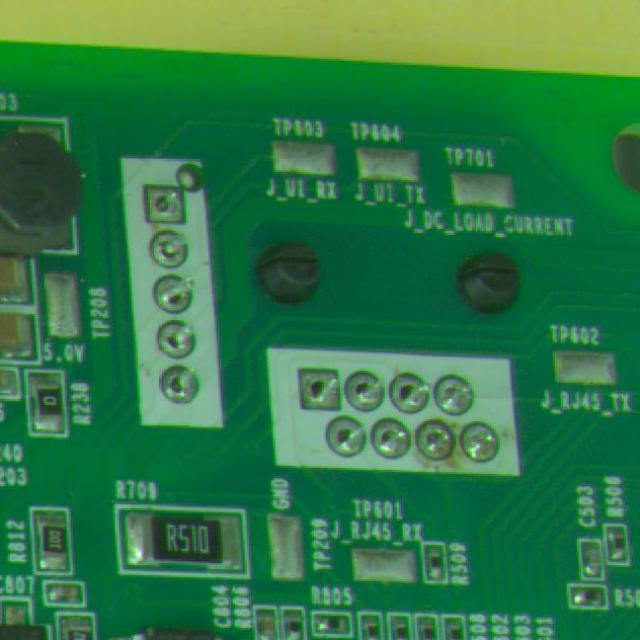Insufficient solder: (130, 177, 193, 226), (290, 364, 344, 414), (308, 419, 367, 461), (140, 230, 197, 272), (142, 274, 198, 315), (389, 368, 432, 421), (342, 366, 385, 414), (157, 368, 202, 410), (148, 323, 196, 361), (370, 420, 410, 460), (418, 420, 452, 462)
